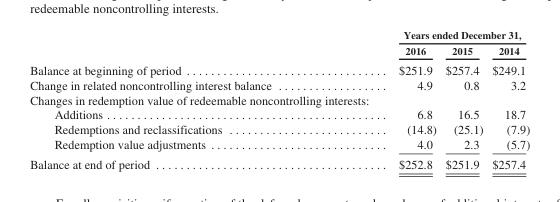table: (29, 28, 529, 170)
table column: (29, 28, 334, 170), (334, 28, 440, 170), (440, 28, 487, 170), (487, 28, 529, 170)
table column header: (29, 28, 529, 59)
table projected row header: (29, 91, 529, 106)
table row: (29, 59, 529, 77), (29, 42, 529, 59), (29, 136, 529, 153), (29, 153, 529, 170), (29, 91, 529, 106), (29, 106, 529, 121), (29, 121, 529, 136), (29, 28, 529, 42), (29, 77, 529, 91)
table spanning cell: (334, 28, 529, 42)
